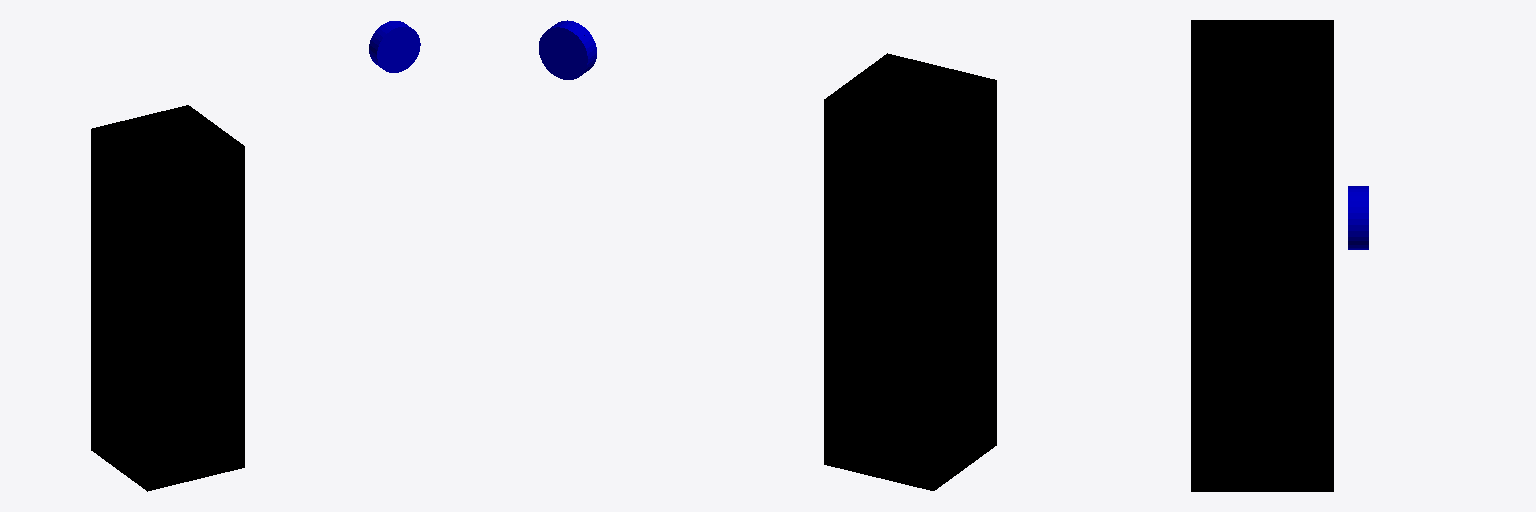
The robot description file, URDF, robot "ur5":
<?xml version="1.0" encoding="utf-8"?>
<!-- =================================================================================== -->
<!-- |    This document was autogenerated by xacro from ur5.xacro                    | -->
<!-- |    EDITING THIS FILE BY HAND IS NOT RECOMMENDED                                 | -->
<!-- =================================================================================== -->
<robot name="ur5">
  <!-- world -->
  <link name="world"/>
  
  <joint name="ur5_pedestal_joint" type="fixed">
    <!-- <origin rpy="0 0 0" xyz="0.5 1.8 0.0"/> -->
    <origin rpy="0 0 0" xyz="0.0 0.0 0.0"/>
    <parent link="world"/>
    <child link="ur5_pedestal_link"/>
  </joint>
  
  <link name="ur5_pedestal_link">
    <visual>
      <origin xyz="0 0 0.475"/>
      <geometry>
        <box size="0.3 0.3 0.95"/>
      </geometry>
      <material name="pedestal_color">
        <color rgba="0 0 0 1"/>
      </material>
    </visual>
    <collision>
      <origin xyz="0 0 0.475"/>
      <geometry>
        <box size="0.3 0.3 0.95"/>
      </geometry>
    </collision>
    <inertial>
      <mass value="500"/>
      <origin rpy="0 0 0" xyz="0 0 0"/>
      <inertia ixx="0.001" ixy="0" ixz="0" iyy="0.001" iyz="0" izz="0.001"/>
    </inertial>
  </link>
  <gazebo reference="ur5_pedestal_link">
    <material>Gazebo/DarkGray</material>
  </gazebo>


  

<!-- __________________________________________________________________________________________________ -->
<!-- robot2 to pedestal. -->
  <joint name="ur5_to_pedestal" type="fixed">
    <parent link="world"/>
    <child link="ur5_base_link"/>
    <!-- <origin rpy="0 0 0" xyz="0.5 1.8 0.95"/> -->
    <origin rpy="0 0 0" xyz="0.0 0.0 0.95"/>
  </joint>
  
  <link name="ur5_base_link">
    <visual>
      <geometry>
        <mesh filename="package://ur_description/meshes/ur5/visual/base.dae"/>
      </geometry>
      <material name="LightGrey">
        <color rgba="0.7 0.7 0.7 1.0"/>
      </material>
    </visual>
    <collision>
      <geometry>
        <mesh filename="package://ur_description/meshes/ur5/collision/base.stl"/>
      </geometry>
    </collision>
    <inertial>
      <mass value="4.0"/>
      <origin rpy="0 0 0" xyz="0.0 0.0 0.0"/>
      <inertia ixx="0.00443333156" ixy="0.0" ixz="0.0" iyy="0.00443333156" iyz="0.0" izz="0.0072"/>
    </inertial>
  </link>

  <joint name="ur5_shoulder_pan_joint" type="revolute">
    <parent link="ur5_base_link"/>
    <child link="ur5_shoulder_link"/>
    <origin rpy="0.0 0.0 0.0" xyz="0.0 0.0 0.089159"/>
    <axis xyz="0 0 1"/>
    <limit effort="150.0" lower="-3.14159265359" upper="3.14159265359" velocity="3.15"/>
    <dynamics damping="0.0" friction="0.0"/>
  </joint>


    <!-- ROS base_link to UR 'Base' Coordinates transform -->
  <link name="ur5_base"/>
  <joint name="ur5_base_link-base_fixed_joint" type="fixed">
    <!-- NOTE: this rotation is only needed as long as base_link itself is
                 not corrected wrt the real robot (ie: rotated over 180
                 degrees)
      -->
    <origin rpy="0 0 -3.14159265359" xyz="0 0 0"/>
    <parent link="ur5_base_link"/>
    <child link="ur5_base"/>
  </joint>

  
<!-- __________________________________________________________________________________________________ -->

  <link name="ur5_shoulder_link">
    <visual>
      <geometry>
        <mesh filename="package://ur_description/meshes/ur5/visual/shoulder.dae"/>
      </geometry>
      <material name="LightGrey">
        <color rgba="0.7 0.7 0.7 1.0"/>
      </material>
    </visual>
    <collision>
      <geometry>
        <mesh filename="package://ur_description/meshes/ur5/collision/shoulder.stl"/>
      </geometry>
    </collision>
    <inertial>
      <mass value="3.7"/>
      <origin rpy="0 0 0" xyz="0.0 0.0 0.0"/>
      <inertia ixx="0.010267495893" ixy="0.0" ixz="0.0" iyy="0.010267495893" iyz="0.0" izz="0.00666"/>
    </inertial>
  </link>
  <joint name="ur5_shoulder_lift_joint" type="revolute">
    <parent link="ur5_shoulder_link"/>
    <child link="ur5_upper_arm_link"/>
    <origin rpy="0.0 1.57079632679 0.0" xyz="0.0 0.13585 0.0"/>
    <axis xyz="0 1 0"/>
    <limit effort="150.0" lower="-3.14159265359" upper="3.14159265359" velocity="3.15"/>
    <dynamics damping="0.0" friction="0.0"/>
  </joint>

<!-- __________________________________________________________________________________________________ -->
  <link name="ur5_upper_arm_link">
    <visual>
      <geometry>
        <mesh filename="package://ur_description/meshes/ur5/visual/upperarm.dae"/>
      </geometry>
      <material name="LightGrey">
        <color rgba="0.7 0.7 0.7 1.0"/>
      </material>
    </visual>
    <collision>
      <geometry>
        <mesh filename="package://ur_description/meshes/ur5/collision/upperarm.stl"/>
      </geometry>
    </collision>
    <inertial>
      <mass value="8.393"/>
      <origin rpy="0 0 0" xyz="0.0 0.0 0.28"/>
      <inertia ixx="0.22689067591" ixy="0.0" ixz="0.0" iyy="0.22689067591" iyz="0.0" izz="0.0151074"/>
    </inertial>
  </link>
  <joint name="ur5_elbow_joint" type="revolute">
    <parent link="ur5_upper_arm_link"/>
    <child link="ur5_forearm_link"/>
    <origin rpy="0.0 0.0 0.0" xyz="0.0 -0.1197 0.425"/>
    <axis xyz="0 1 0"/>
    <limit effort="150.0" lower="-3.14159265359" upper="3.14159265359" velocity="3.15"/>
    <dynamics damping="0.0" friction="0.0"/>
  </joint>

<!-- __________________________________________________________________________________________________ -->

  <link name="ur5_forearm_link">
    <visual>
      <geometry>
        <mesh filename="package://ur_description/meshes/ur5/visual/forearm.dae"/>
      </geometry>
      <material name="LightGrey">
        <color rgba="0.7 0.7 0.7 1.0"/>
      </material>
    </visual>
    <collision>
      <geometry>
        <mesh filename="package://ur_description/meshes/ur5/collision/forearm.stl"/>
      </geometry>
    </collision>
    <inertial>
      <mass value="2.275"/>
      <origin rpy="0 0 0" xyz="0.0 0.0 0.196125"/>
      <inertia ixx="0.0312167910289" ixy="0.0" ixz="0.0" iyy="0.0312167910289" iyz="0.0" izz="0.004095"/>
    </inertial>
  </link>
  <joint name="ur5_wrist_1_joint" type="revolute">
    <parent link="ur5_forearm_link"/>
    <child link="ur5_wrist_1_link"/>
    <origin rpy="0.0 1.57079632679 0.0" xyz="0.0 0.0 0.39225"/>
    <axis xyz="0 1 0"/>
    <limit effort="28.0" lower="-3.14159265359" upper="3.14159265359" velocity="3.2"/>
    <dynamics damping="0.0" friction="0.0"/>
  </joint>

<!-- __________________________________________________________________________________________________ -->
  <link name="ur5_wrist_1_link">
    <visual>
      <geometry>
        <mesh filename="package://ur_description/meshes/ur5/visual/wrist1.dae"/>
      </geometry>
      <material name="LightGrey">
        <color rgba="0.7 0.7 0.7 1.0"/>
      </material>
    </visual>
    <collision>
      <geometry>
        <mesh filename="package://ur_description/meshes/ur5/collision/wrist1.stl"/>
      </geometry>
    </collision>
    <inertial>
      <mass value="1.219"/>
      <origin rpy="0 0 0" xyz="0.0 0.093 0.0"/>
      <inertia ixx="0.00255989897604" ixy="0.0" ixz="0.0" iyy="0.00255989897604" iyz="0.0" izz="0.0021942"/>
    </inertial>
  </link>
  <joint name="ur5_wrist_2_joint" type="revolute">
    <parent link="ur5_wrist_1_link"/>
    <child link="ur5_wrist_2_link"/>
    <origin rpy="0.0 0.0 0.0" xyz="0.0 0.093 0.0"/>
    <axis xyz="0 0 1"/>
    <limit effort="28.0" lower="-3.14159265359" upper="3.14159265359" velocity="3.2"/>
    <dynamics damping="0.0" friction="0.0"/>
  </joint>
<!-- __________________________________________________________________________________________________ -->

  <link name="ur5_wrist_2_link">
    <visual>
      <geometry>
        <mesh filename="package://ur_description/meshes/ur5/visual/wrist2.dae"/>
      </geometry>
      <material name="LightGrey">
        <color rgba="0.7 0.7 0.7 1.0"/>
      </material>
    </visual>
    <collision>
      <geometry>
        <mesh filename="package://ur_description/meshes/ur5/collision/wrist2.stl"/>
      </geometry>
    </collision>
    <inertial>
      <mass value="1.219"/>
      <origin rpy="0 0 0" xyz="0.0 0.0 0.09465"/>
      <inertia ixx="0.00255989897604" ixy="0.0" ixz="0.0" iyy="0.00255989897604" iyz="0.0" izz="0.0021942"/>
    </inertial>
  </link>
  <joint name="ur5_wrist_3_joint" type="revolute">
    <parent link="ur5_wrist_2_link"/>
    <child link="ur5_wrist_3_link"/>
    <origin rpy="0.0 0.0 0.0" xyz="0.0 0.0 0.09465"/>
    <axis xyz="0 1 0"/>
    <limit effort="28.0" lower="-3.14159265359" upper="3.14159265359" velocity="3.2"/>
    <dynamics damping="0.0" friction="0.0"/>
  </joint>

<!-- __________________________________________________________________________________________________ -->
  <link name="ur5_wrist_3_link">
    <visual>
      <geometry>
        <mesh filename="package://ur_description/meshes/ur5/visual/wrist3.dae"/>
      </geometry>
      <material name="LightGrey">
        <color rgba="0.7 0.7 0.7 1.0"/>
      </material>
    </visual>
    <collision>
      <geometry>
        <mesh filename="package://ur_description/meshes/ur5/collision/wrist3.stl"/>
      </geometry>
    </collision>
    <inertial>
      <mass value="0.1879"/>
      <origin rpy="1.57079632679 0 0" xyz="0.0 0.06505 0.0"/>
      <inertia ixx="8.46958911216e-05" ixy="0.0" ixz="0.0" iyy="8.46958911216e-05" iyz="0.0" izz="0.0001321171875"/>
    </inertial>
  </link>

  <joint name="ur5_ee_fixed_joint" type="fixed">
    <parent link="ur5_wrist_3_link"/>
    <child link="ur5_ee_link"/>
    <origin rpy="0.0 0.0 1.57079632679" xyz="0.0 0.0823 0.0"/>
  </joint>

<!-- __________________________________________________________________________________________________ -->
  <link name="ur5_ee_link">
    <collision>
      <geometry>
        <box size="0.01 0.01 0.01"/>
      </geometry>
      <origin rpy="0 0 0" xyz="-0.01 0 0"/>
    </collision>
  </link>
<!-- __________________________________________________________________________________________________ -->
<!-- __________________________________________________________________________________________________ -->



<!-- *** Gripper *** -->
  <joint name="ur5_wrist_3_link-tool0_fixed_joint" type="fixed">
    <origin rpy="-1.57079632679 0 0" xyz="0 0.0823 0"/>
    <parent link="ur5_wrist_3_link"/>
    <child link="ur5_tool0"/>
  </joint>

  <!-- Frame coincident with all-zeros TCP on UR controller -->
  <link name="ur5_tool0"/>

  <!-- gripper2 to robot2. -->
  <joint name="ur5_tool0_to_gripper_base" type="fixed">
    <parent link="ur5_tool0"/>
    <child link="Gripper_Base"/>
  </joint>

   <link name="Gripper_Base">
    <visual>
      <geometry>
        <cylinder length="0.022043" radius="0.067187"/>
      </geometry>
      <material name="blue">
        <color rgba="0 0 .8 1"/>
      </material>
    </visual>
    <collision>
      <geometry>
        <cylinder length="0.022043" radius="0.067187"/>
      </geometry>
    </collision>
    <inertial>
      <mass value="0.00001"/>
      <inertia ixx="0.14583300" ixy="0.00000000" ixz="0.0" iyy="0.14583300" iyz="0.0" izz="0.12500000"/>
    </inertial>
  </link>


  <joint name="gripper_base_to_gripper" type="revolute">
      <parent link="Gripper_Base" />
      <child link="vacuum_gripper_link" />
      <origin rpy="0 0 0" xyz="0 0 0.0221" />
      <limit effort="30" velocity="1.0" lower="0" upper="0" />
    </joint>

  <link name="vacuum_gripper_link">
    
    <visual>
      <!-- <origin xyz="0 0 0" rpy="0 -1.57070 0"/> -->
      <geometry>
        <cylinder length="0.022043" radius="0.067187"/>
      </geometry>
      <material name="blue">
        <color rgba="0 0 .8 1"/>
      </material>
    </visual>
    <collision>
      <!-- <origin xyz="0 0 0" rpy="0 -1.57070 0"/> -->
      <geometry>
        <cylinder length="0.022043" radius="0.067187"/>
      </geometry>
    </collision>
    <inertial>
      <mass value="0.00001"/>
      <inertia ixx="0.14583300" ixy="0.00000000" ixz="0.0" iyy="0.14583300" iyz="0.0" izz="0.12500000"/>
    </inertial>
  </link>


    

    <gazebo>
      <plugin name="ros_logical_camera" filename="libROSLogicalCameraPlugin.so">
        <robotNamespace>/eyrc/vb/ur5/vacuum_gripper/logical_camera</robotNamespace>
      </plugin>
    </gazebo>

    <gazebo reference="vacuum_gripper_link">
      <material>Gazebo/DarkGray</material>
    </gazebo>

    <gazebo reference="vacuum_gripper_link">

      <sensor name="vacuum_gripper_link_logical_camera" type="logical_camera">

        <!-- <pose frame=''>0 0 -0.07 0 -1.57070 0</pose> -->
        <!-- <origin xyz="0 0 0" rpy="0 -1.57070 0"/> -->

        <pose frame=''>-0.065 0 0 0 0 0</pose>

        <logical_camera>
          <near>0.06</near>
          <far>0.09</far>
          <horizontal_fov>1.1</horizontal_fov>
          <aspect_ratio>1.5</aspect_ratio>
        </logical_camera>

        <!-- <visualize>true</visualize> -->
        <visualize>true</visualize>
        <always_on>true</always_on>
        <update_rate>10</update_rate>
        <topic>logical_camera</topic>
      </sensor>

    </gazebo>

<!-- ________________________________________________________________________________________________ -->
<!-- ________________________________________________________________________________________________ -->
<!-- ________________________________________________________________________________________________ -->

    <transmission name="ur5_shoulder_pan_trans">
    <type>transmission_interface/SimpleTransmission</type>
    <joint name="ur5_shoulder_pan_joint">
      <hardwareInterface>hardware_interface/PositionJointInterface</hardwareInterface>
    </joint>
    <actuator name="ur5_shoulder_pan_motor">
      <hardwareInterface>hardware_interface/PositionJointInterface</hardwareInterface>
      <mechanicalReduction>1</mechanicalReduction>
    </actuator>
  </transmission>
  
  <transmission name="ur5_shoulder_lift_trans">
    <type>transmission_interface/SimpleTransmission</type>
    <joint name="ur5_shoulder_lift_joint">
      <hardwareInterface>hardware_interface/PositionJointInterface</hardwareInterface>
    </joint>
    <actuator name="ur5_shoulder_lift_motor">
      <hardwareInterface>hardware_interface/PositionJointInterface</hardwareInterface>
      <mechanicalReduction>1</mechanicalReduction>
    </actuator>
  </transmission>
  
  <transmission name="ur5_elbow_trans">
    <type>transmission_interface/SimpleTransmission</type>
    <joint name="ur5_elbow_joint">
      <hardwareInterface>hardware_interface/PositionJointInterface</hardwareInterface>
    </joint>
    <actuator name="ur5_elbow_motor">
      <hardwareInterface>hardware_interface/PositionJointInterface</hardwareInterface>
      <mechanicalReduction>1</mechanicalReduction>
    </actuator>
  </transmission>
  
  <transmission name="ur5_wrist_1_trans">
    <type>transmission_interface/SimpleTransmission</type>
    <joint name="ur5_wrist_1_joint">
      <hardwareInterface>hardware_interface/PositionJointInterface</hardwareInterface>
    </joint>
    <actuator name="ur5_wrist_1_motor">
      <hardwareInterface>hardware_interface/PositionJointInterface</hardwareInterface>
      <mechanicalReduction>1</mechanicalReduction>
    </actuator>
  </transmission>
  
  <transmission name="ur5_wrist_2_trans">
    <type>transmission_interface/SimpleTransmission</type>
    <joint name="ur5_wrist_2_joint">
      <hardwareInterface>hardware_interface/PositionJointInterface</hardwareInterface>
    </joint>
    <actuator name="ur5_wrist_2_motor">
      <hardwareInterface>hardware_interface/PositionJointInterface</hardwareInterface>
      <mechanicalReduction>1</mechanicalReduction>
    </actuator>
  </transmission>
  
  <transmission name="ur5_wrist_3_trans">
    <type>transmission_interface/SimpleTransmission</type>
    <joint name="ur5_wrist_3_joint">
      <hardwareInterface>hardware_interface/PositionJointInterface</hardwareInterface>
    </joint>
    <actuator name="ur5_wrist_3_motor">
      <hardwareInterface>hardware_interface/PositionJointInterface</hardwareInterface>
      <mechanicalReduction>1</mechanicalReduction>
    </actuator>
  </transmission>

  
  <gazebo>
    <plugin name="control" filename="libgazebo_ros_control.so"/>
  </gazebo>
  <gazebo>
    <plugin name="joint_state_publisher" filename="libgazebo_ros_joint_state_publisher.so">
        <jointName>ur5_shoulder_pan_joint, ur5_shoulder_lift_joint, ur5_elbow_joint, ur5_wrist_1_joint, ur5_wrist_2_joint, ur5_wrist_3_joint</jointName>
    </plugin>
  </gazebo>


  <gazebo reference="ur5_shoulder_link">
    <selfCollide>true</selfCollide>
  </gazebo>
  <gazebo reference="ur5_upper_arm_link">
    <selfCollide>true</selfCollide>
  </gazebo>
  <gazebo reference="ur5_forearm_link">
    <selfCollide>true</selfCollide>
  </gazebo>
  <gazebo reference="ur5_wrist_1_link">
    <selfCollide>true</selfCollide>
  </gazebo>
  <gazebo reference="ur5_wrist_3_link">
    <selfCollide>true</selfCollide>
  </gazebo>
  <gazebo reference="ur5_wrist_2_link">
    <selfCollide>true</selfCollide>
  </gazebo>
  <gazebo reference="ur5_ee_link">
    <selfCollide>true</selfCollide>
  </gazebo>

</robot>

--- What the picture shows (computed from the rendered views, not written in the file) ---
The picture shows the robot from 3 angles, left to right: view 1: azimuth 30°, elevation 25°; view 2: azimuth 150°, elevation 25°; view 3: azimuth 270°, elevation 25°; orthographic projection.
Robot: ur5 — 14 links, 13 joints (7 revolute, 6 fixed); root link world; default pose: all joints at 0.
Links seen in each view (by area): view 1: ur5_pedestal_link, Gripper_Base; view 2: ur5_pedestal_link, vacuum_gripper_link; view 3: ur5_pedestal_link, Gripper_Base, vacuum_gripper_link.
Link boxes in pixels (x1,y1,x2,y2): ur5_pedestal_link: (91,105,244,491); Gripper_Base: (373,24,420,72); ur5_pedestal_link: (824,53,996,490); vacuum_gripper_link: (539,24,592,79); ur5_pedestal_link: (1191,20,1333,491); Gripper_Base: (1348,186,1358,249); vacuum_gripper_link: (1359,186,1368,249).
Bounding box of the posed robot: 1.03 × 0.3746 × 1.01 m (x, y, z).
Meshes: 7 distinct files referenced, 0 mesh visuals loaded (none loaded); not drawn: 7 (reference not matched to a file when rendering).